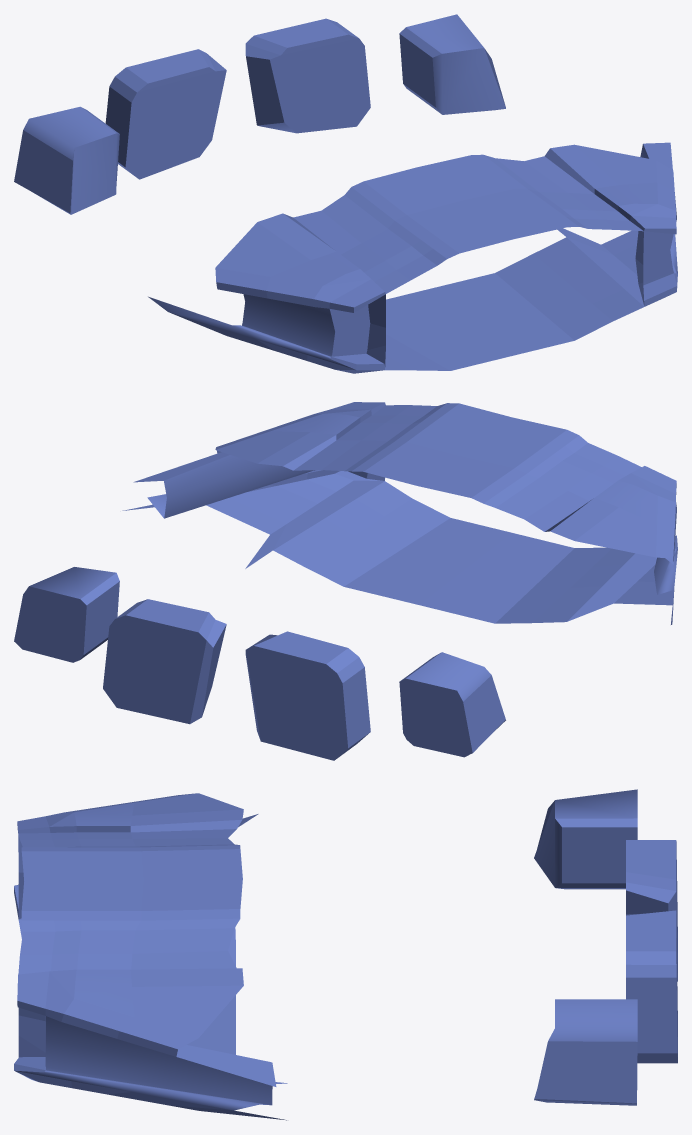
The model's file is ShipHull_CollisionMeshSegmented.fbx.
3 renders of one model, top to bottom at view 1: azimuth 30°, elevation 25°; view 2: azimuth 150°, elevation 25°; view 3: azimuth 270°, elevation 25°, orthographic. The views are drawn at different scales.
Parts seen in each view (by area): view 1: Colllision3, Collsion4; view 2: Colllision3, Collsion4; view 3: Colllision3, Collsion4.
Part boxes in pixels (<box>): Colllision3: <box>148,142,677,373</box>; Collsion4: <box>14,14,505,214</box>; Colllision3: <box>122,402,677,624</box>; Collsion4: <box>14,567,505,760</box>; Colllision3: <box>14,793,287,1120</box>; Collsion4: <box>534,789,677,1105</box>.
Size of what is drawn, in the model's own units: 3298 by 714 by 3098.
